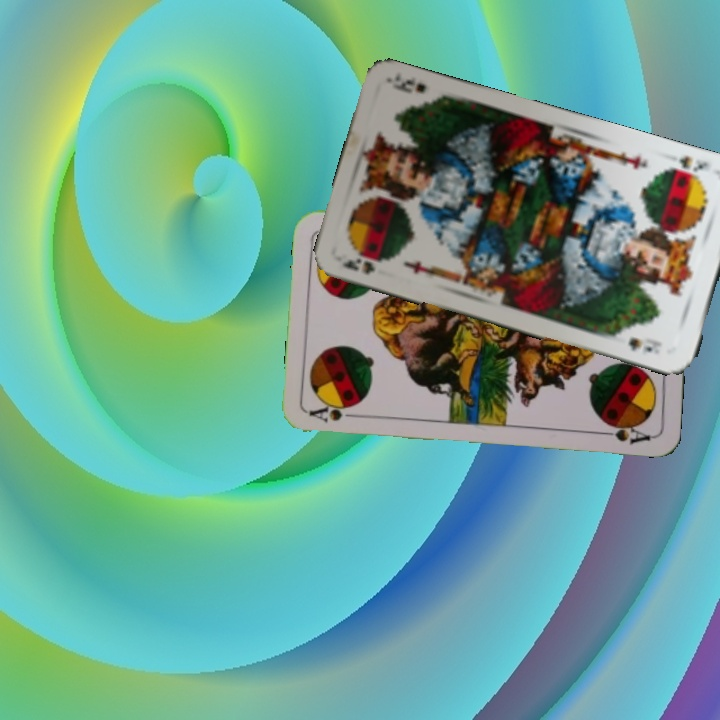SA: (306, 400, 365, 425)
SK: (664, 152, 711, 184), (338, 250, 384, 277)
